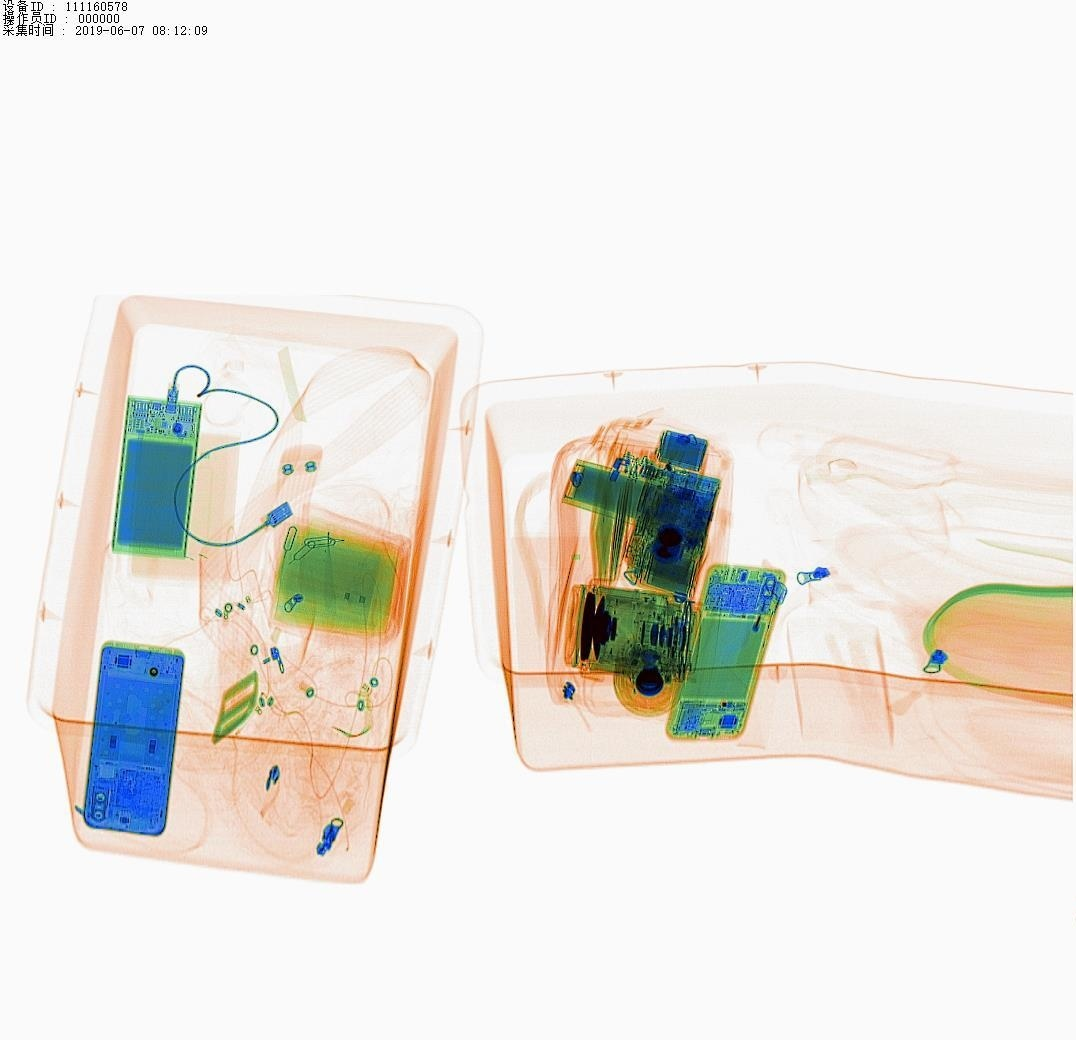NonmetallicFire: (726, 569, 795, 691)
